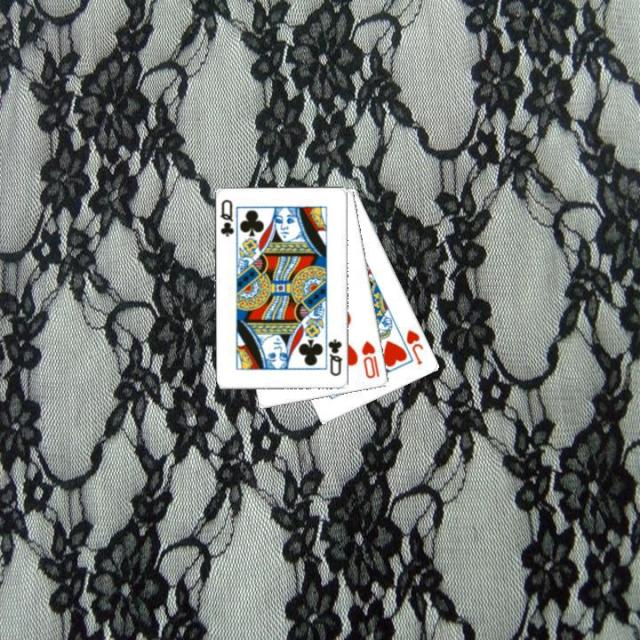10H: (358, 337, 382, 380)
JH: (403, 326, 425, 367)
QC: (324, 335, 344, 378), (217, 196, 236, 238)
